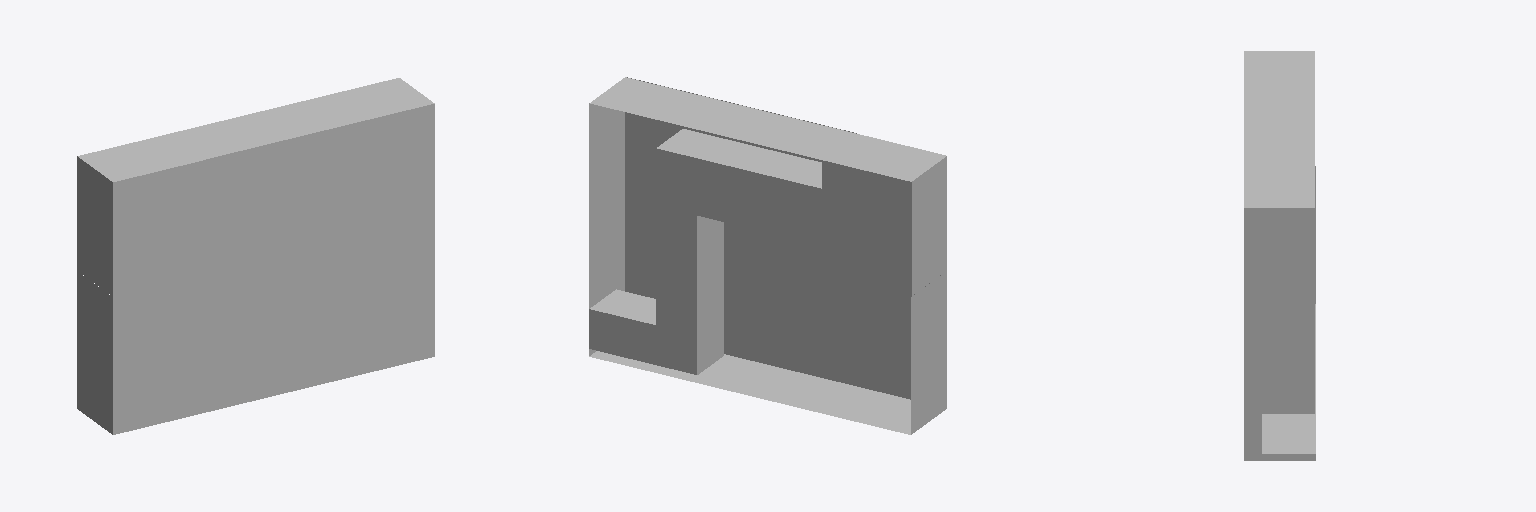
The model's file is fullhouse.obj.
3 views of the same model, side by side, from view 1: azimuth 30°, elevation 25°; view 2: azimuth 150°, elevation 25°; view 3: azimuth 270°, elevation 25° (orthographic).
Visible parts, largest first — view 1: obj1; view 2: obj1; view 3: obj1.
Boxes of the visible parts, x1,y1,x2,y2 form: obj1: [77, 78, 434, 434]; obj1: [589, 77, 946, 434]; obj1: [1244, 51, 1315, 460].
Size of the model in its own units: 92.53 by 69.46 by 18.15.